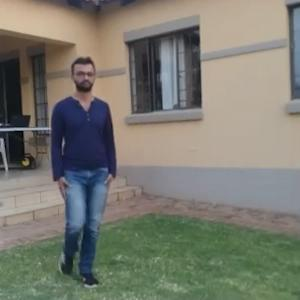follow: (54, 66, 118, 264)
